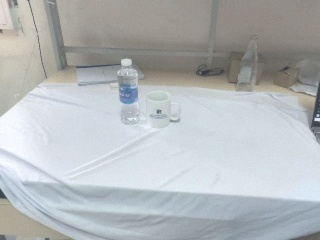bottle: (117, 58, 140, 125), (235, 35, 259, 92)
box: (274, 60, 301, 87)
cup: (146, 90, 180, 129)
